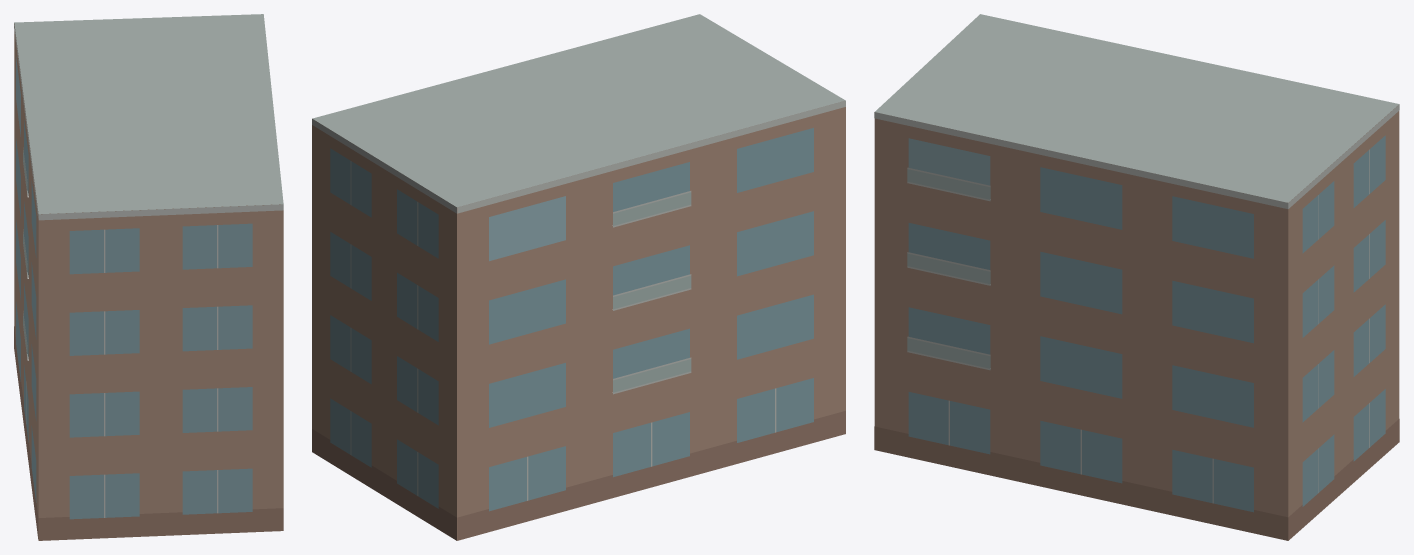
The model's file is survey-upis-32606523.glb.
3 renders of one model, left to right at view 1: azimuth 30°, elevation 25°; view 2: azimuth 150°, elevation 25°; view 3: azimuth 270°, elevation 25°, orthographic. The views are drawn at different scales.
Parts seen in each view (by area): view 1: survey-upis-32606523.tmp; view 2: survey-upis-32606523.tmp; view 3: survey-upis-32606523.tmp.
Part boxes in pixels (left/top/right/bottom): survey-upis-32606523.tmp: left=14, top=14, right=283, bottom=540; survey-upis-32606523.tmp: left=312, top=14, right=845, bottom=540; survey-upis-32606523.tmp: left=874, top=14, right=1399, bottom=540.
Bounding box in the file's own units: 15.47 × 12.9 × 18.16.
